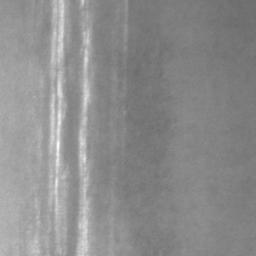Bright scratch: (50, 0, 69, 256), (76, 0, 92, 256)
